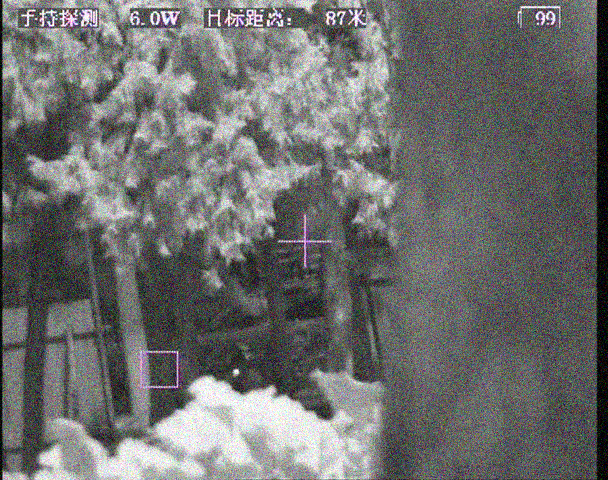my: (230, 367, 242, 377)
